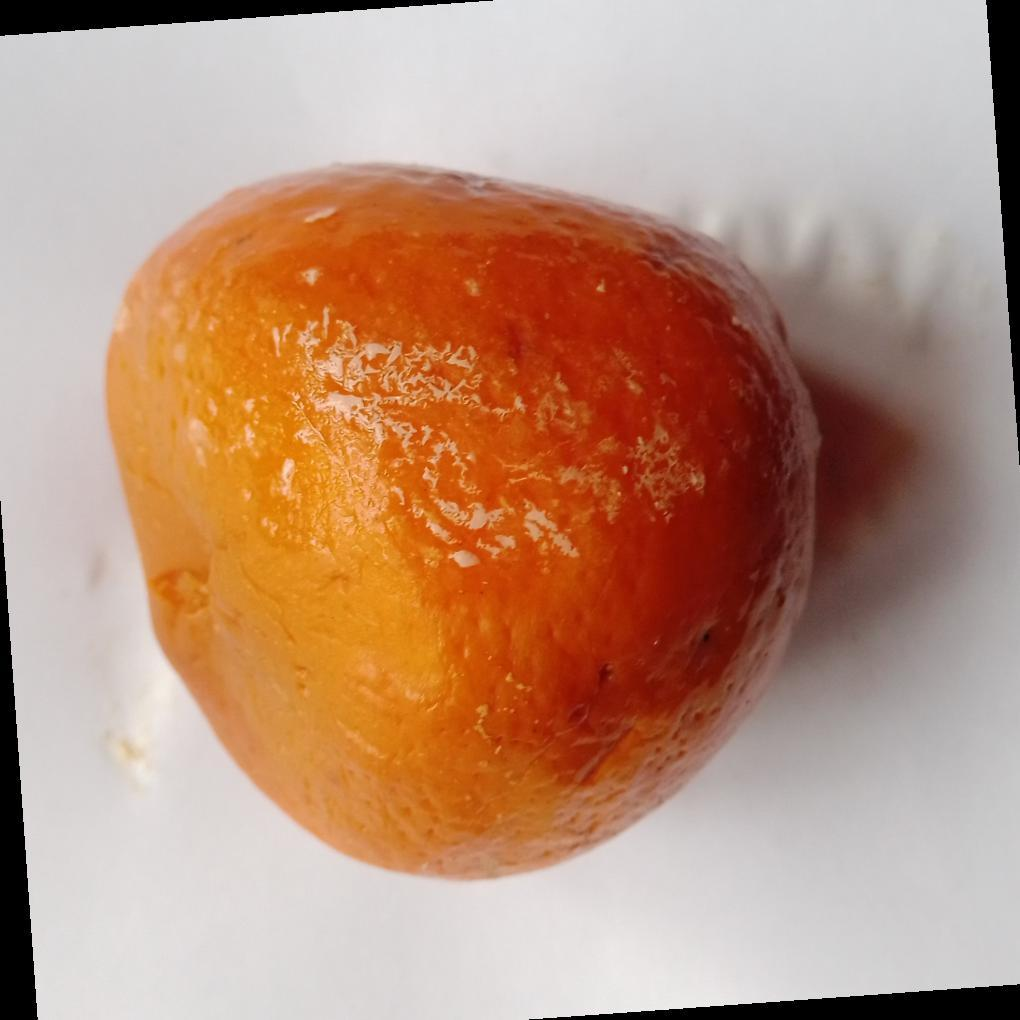FreshOrange: (101, 163, 823, 887)
